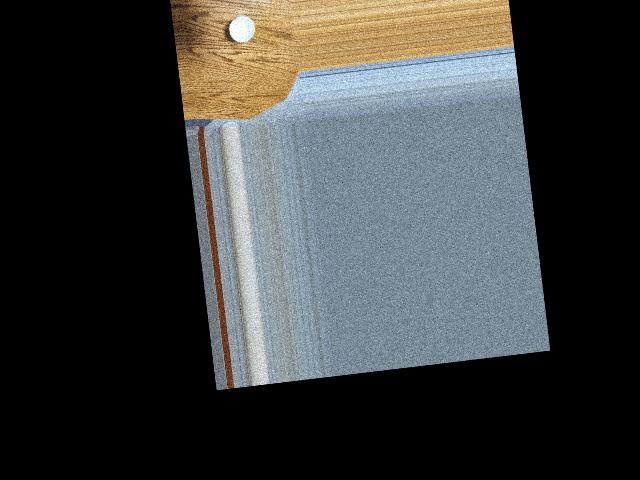cotage: (228, 11, 257, 46)
